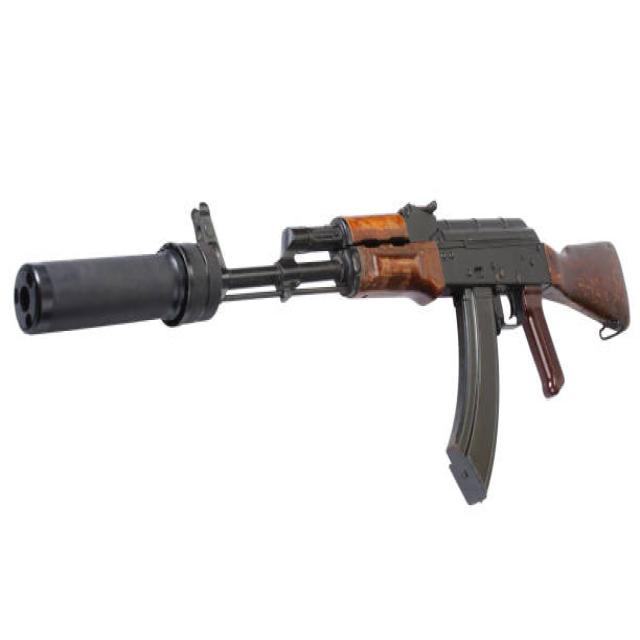rifle: (12, 184, 635, 517)
